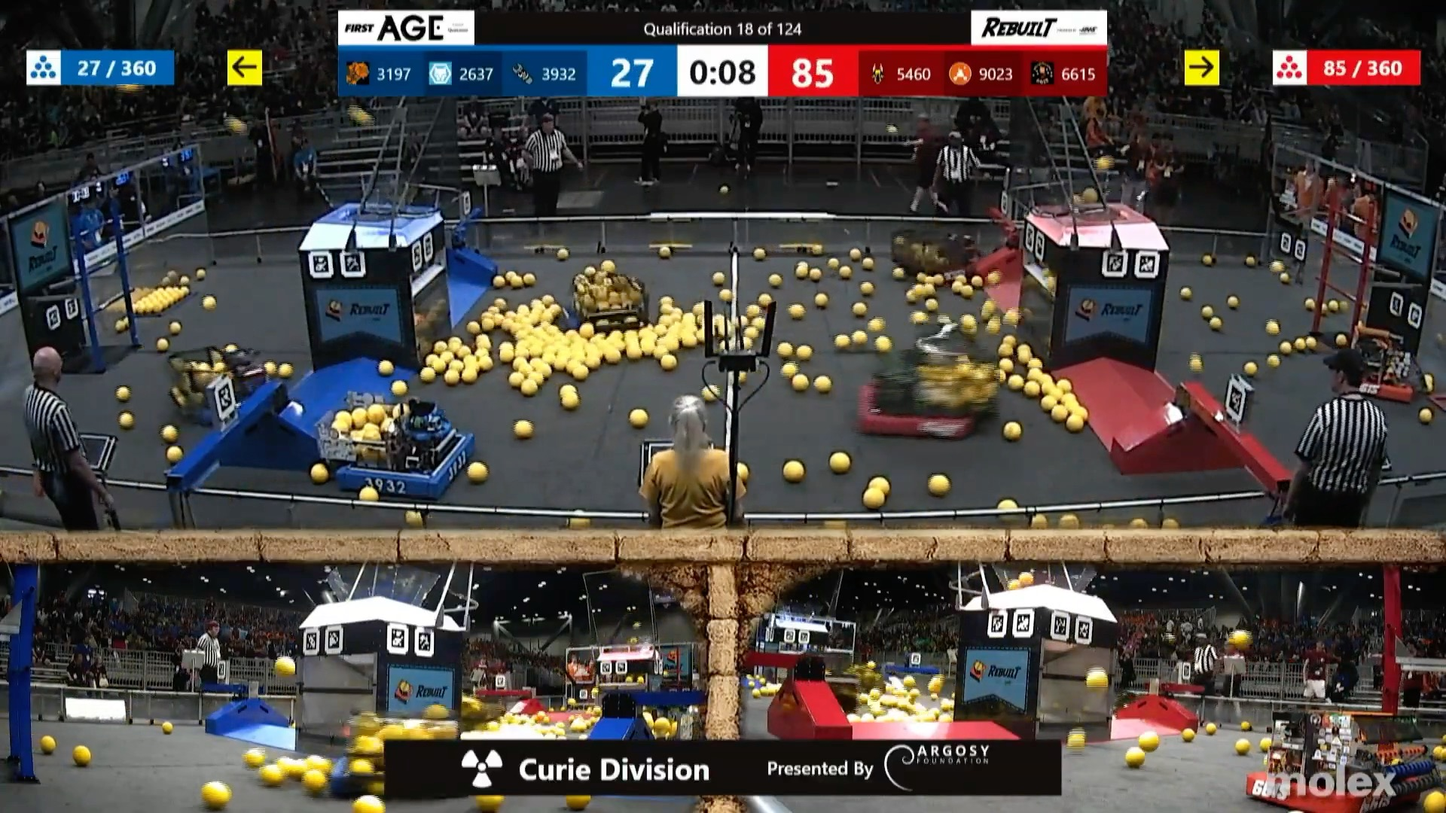bumpers: (1238, 757, 1432, 813), (327, 433, 480, 499), (850, 385, 987, 447), (171, 376, 294, 431), (559, 306, 658, 348), (1341, 373, 1419, 406), (900, 259, 981, 288)
